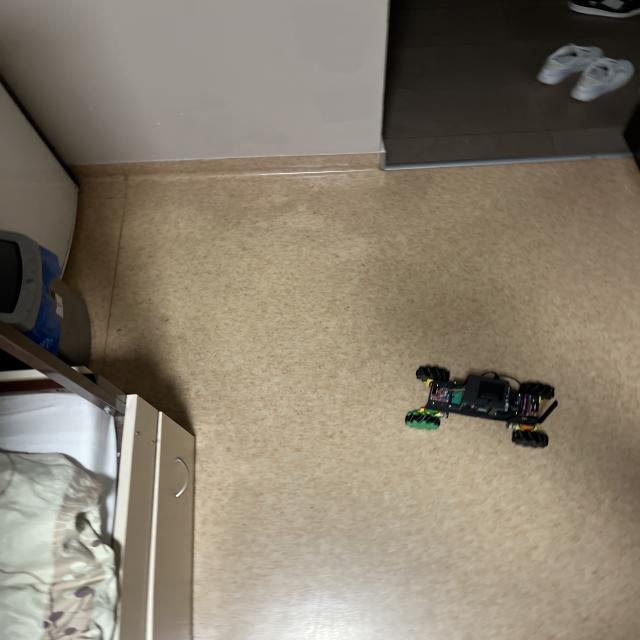robot: (405, 365, 558, 448)
